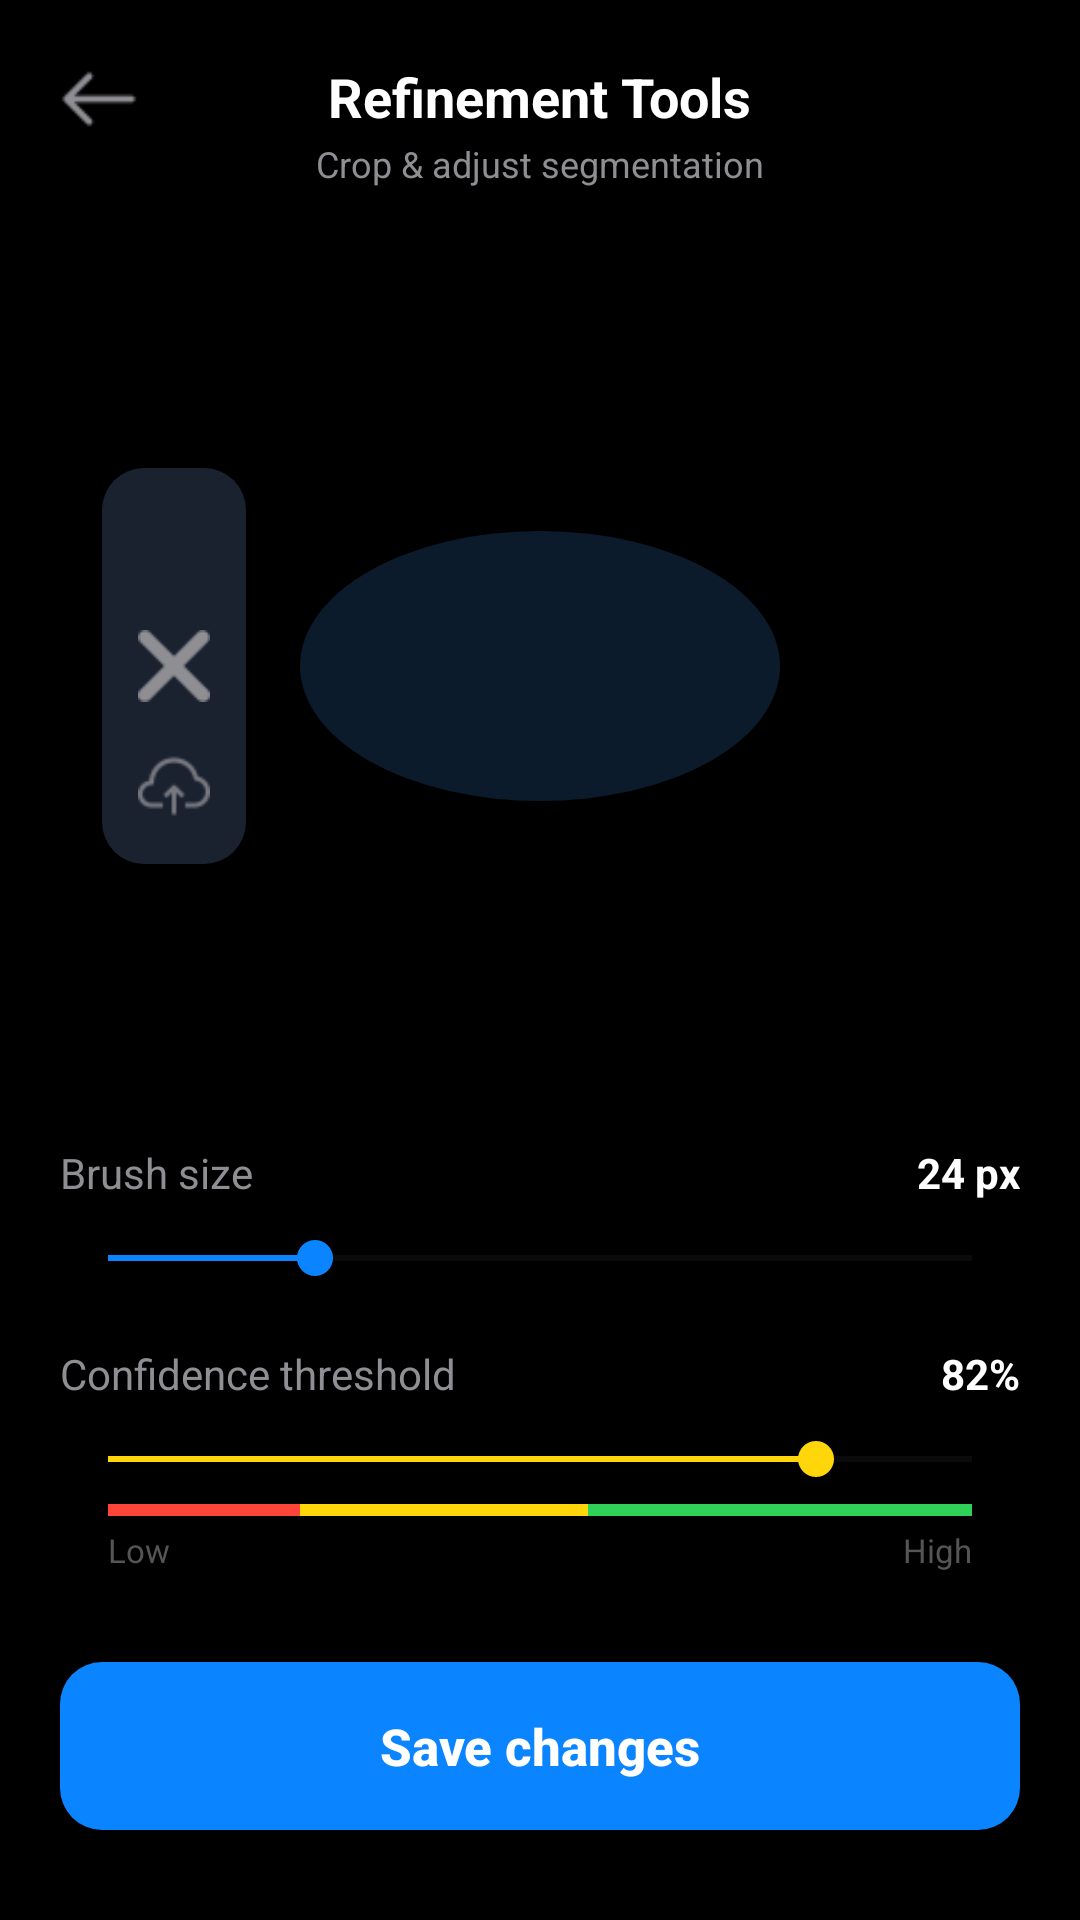

Locate icon controls on the screen. Image size 1080w x 1920h, boxes as (x1, y1, x2, y2).
back: (62, 72, 136, 126)
close: (138, 630, 210, 702)
upload: (138, 757, 210, 815)
